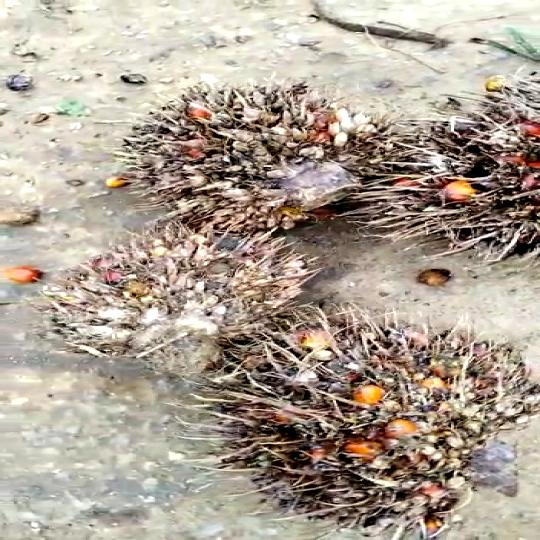terlalu masak: (190, 306, 540, 498), (42, 229, 311, 366), (148, 73, 379, 232)
